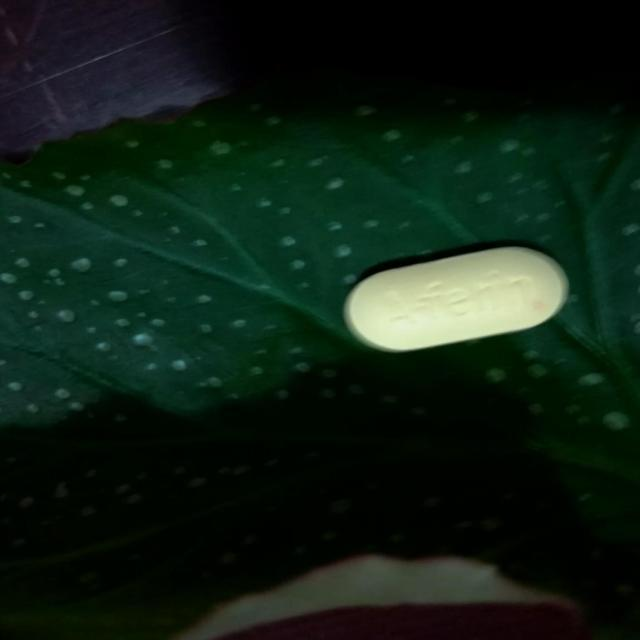pill: (336, 243, 565, 355)
